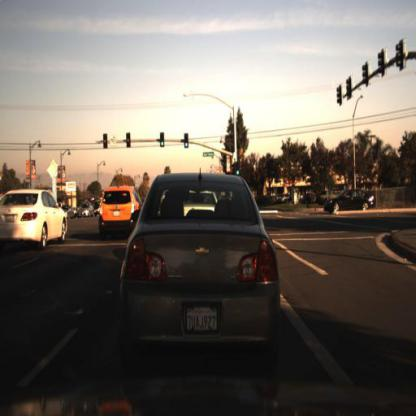car: (107, 166, 293, 364), (1, 178, 70, 257), (94, 174, 142, 244), (100, 183, 147, 232), (321, 183, 372, 223), (9, 187, 47, 225), (74, 199, 96, 223), (75, 200, 100, 220)
trafficLight: (125, 133, 133, 157), (103, 130, 111, 151), (160, 130, 168, 149)
trafficLight-Green: (180, 130, 194, 163), (234, 161, 242, 186), (157, 134, 165, 157), (235, 161, 243, 179)
trafficLight-Red: (183, 133, 190, 153)
trafficLight-RedLeft: (100, 130, 110, 158)
